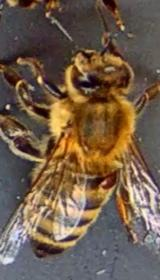varroa_mite: (92, 162, 131, 205)
